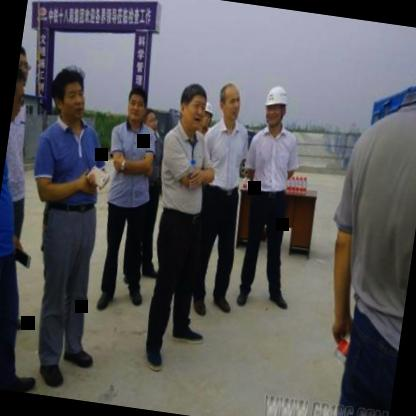head: (45, 61, 91, 127), (175, 80, 211, 135), (214, 78, 246, 128), (121, 82, 150, 127), (139, 106, 163, 138)
helmet: (258, 78, 292, 132)
